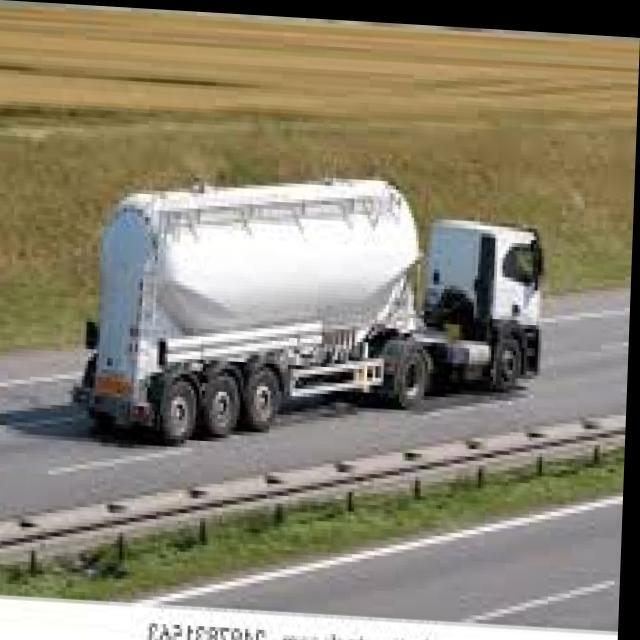covered: (72, 150, 554, 458)
